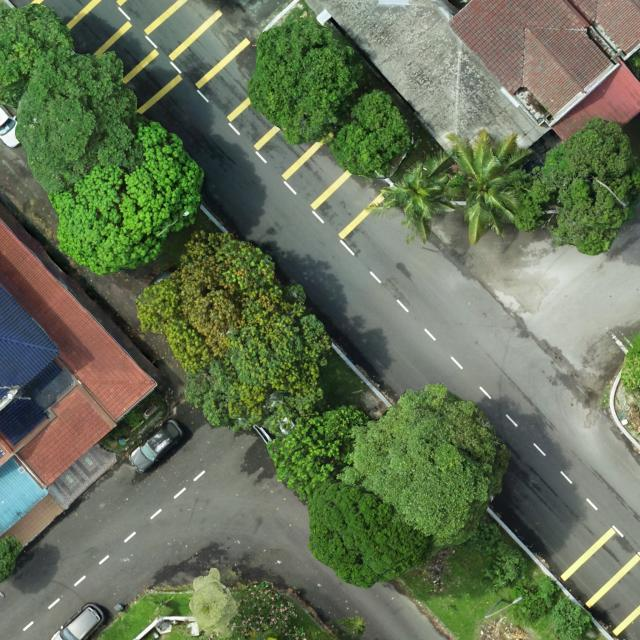tree: (335, 382, 515, 547), (135, 228, 311, 379), (50, 111, 206, 276), (182, 282, 331, 431), (13, 46, 140, 199), (509, 116, 640, 257), (248, 17, 364, 146), (304, 483, 434, 590), (442, 127, 536, 248), (265, 404, 371, 502), (366, 150, 459, 246), (0, 2, 76, 108), (329, 88, 412, 178), (228, 579, 299, 640), (188, 565, 240, 640), (551, 598, 594, 639), (0, 533, 24, 582)
